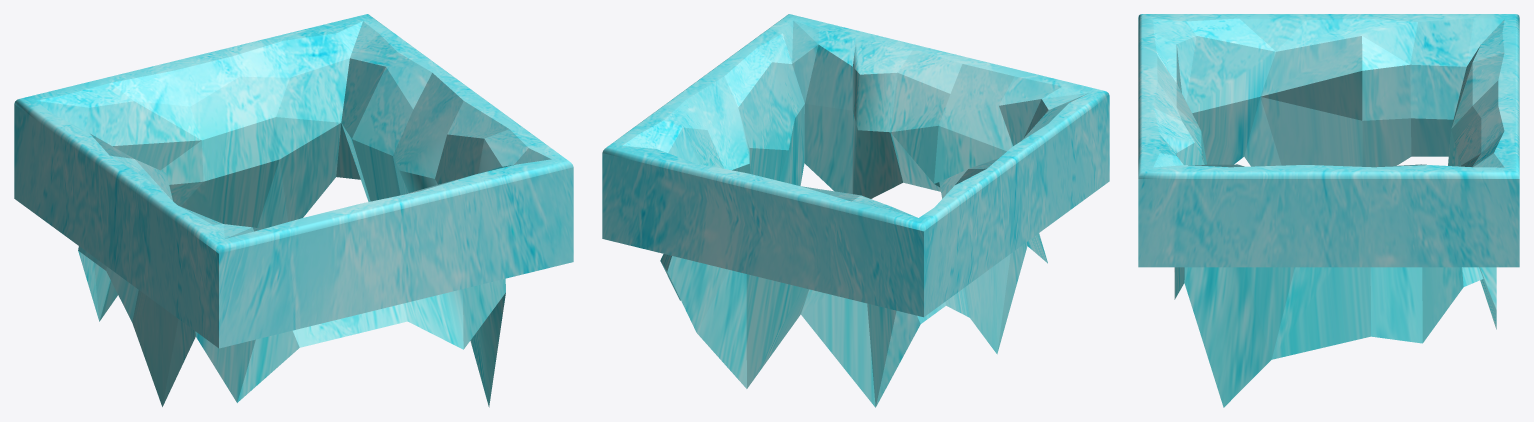
Rendered from HoleTile.fbx.
The picture shows the model from 3 angles, left to right: view 1: azimuth 30°, elevation 25°; view 2: azimuth 150°, elevation 25°; view 3: azimuth 270°, elevation 25°; orthographic projection. The views are drawn at different scales.
Parts seen in each view (by area): view 1: Hole_Tile; view 2: Hole_Tile; view 3: Hole_Tile.
Part boxes in pixels (x1,y1,x2,y2): Hole_Tile: (14,14,573,407); Hole_Tile: (602,14,1109,407); Hole_Tile: (1138,14,1519,407).
Bounding box in the file's own units: 5.87 × 4.28 × 5.87.
Materials: 1 (1 with a texture image).
